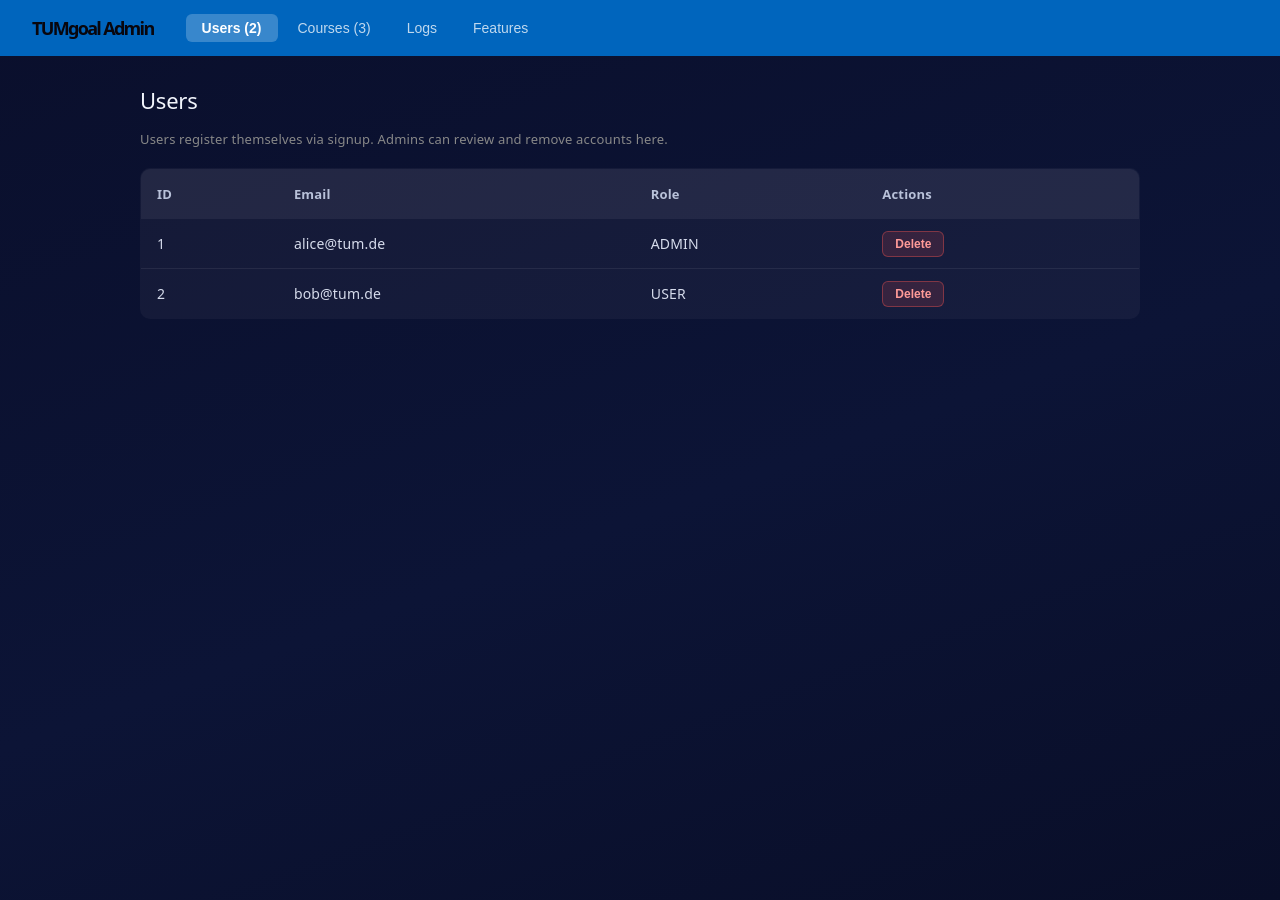
Scenario: Logs tab › renders LLM log rows when Logs tab is opened
This screenshot has width=1280, height=900.
Click the button "Logs": (422, 28) [391,14,453,42]
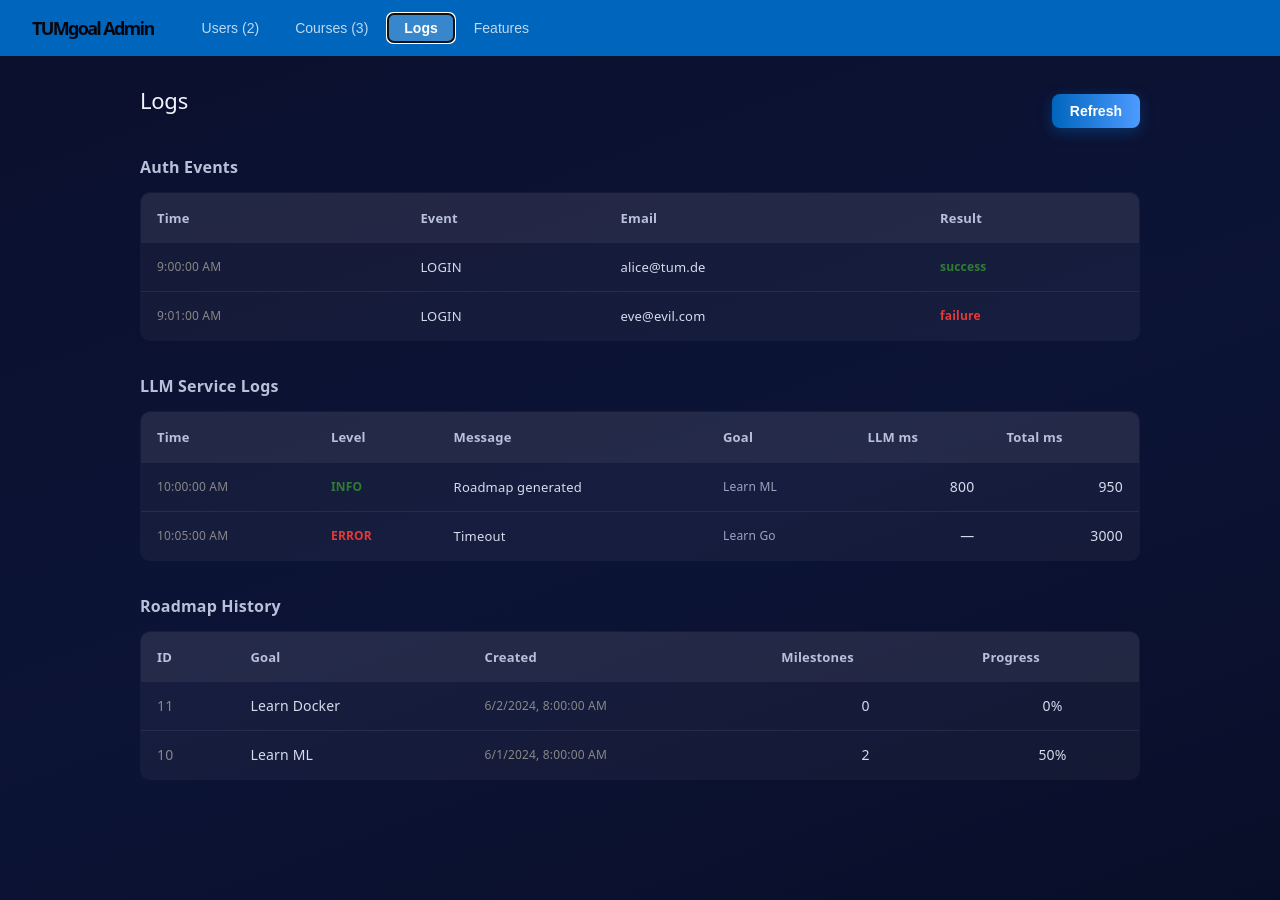
Expected: the text "Roadmap generated" is shown, [438,462,707,511]
Expected: the text "Timeout" is shown, [438,511,707,560]
Expected: the text "Learn ML" next to "6/1/2024, 8:00:00 AM" is shown, [250,745,313,764]
